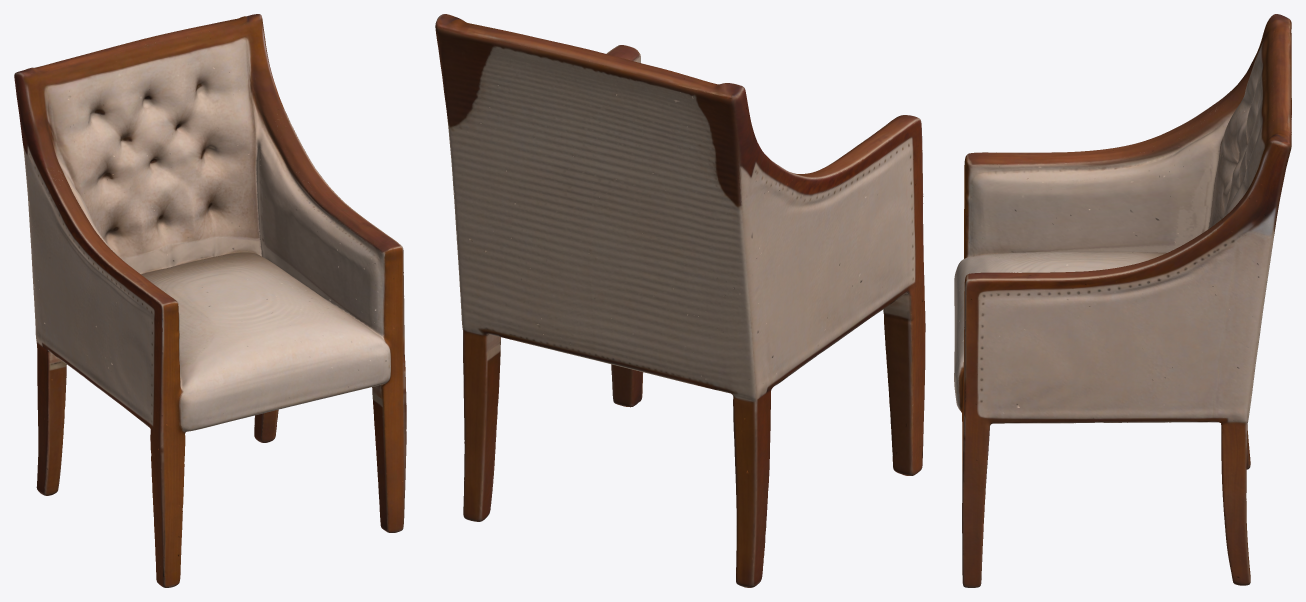
File: Tufted_Beige_Arm_Chair.glb
3 views of the same model, side by side, from view 1: azimuth 30°, elevation 25°; view 2: azimuth 150°, elevation 25°; view 3: azimuth 270°, elevation 25° (orthographic). The views are drawn at different scales.
Size of the model in its own units: 1.24 by 2 by 1.36.
1 material, 1 textured.
